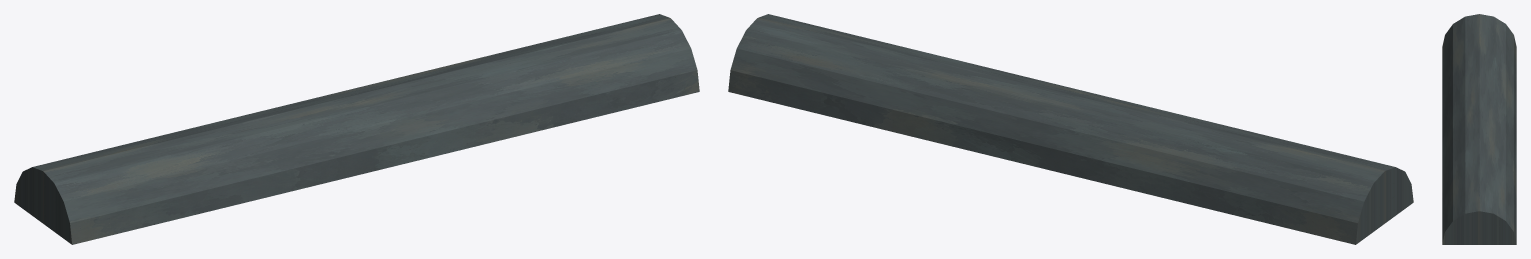
The model's file is EastRoof_Ridge_2m.fbx.
3 renders of one model, left to right at view 1: azimuth 30°, elevation 25°; view 2: azimuth 150°, elevation 25°; view 3: azimuth 270°, elevation 25°, orthographic. The views are drawn at different scales.
Visible parts, largest first — view 1: EastRoof_Ridge_2m; view 2: EastRoof_Ridge_2m; view 3: EastRoof_Ridge_2m.
Part boxes in pixels (bbox=[...]): EastRoof_Ridge_2m: bbox=[14, 14, 699, 244]; EastRoof_Ridge_2m: bbox=[728, 14, 1413, 244]; EastRoof_Ridge_2m: bbox=[1442, 14, 1516, 244].
Bounding box in the file's own units: 2 × 0.16 × 0.32.
1 material, 1 textured.
